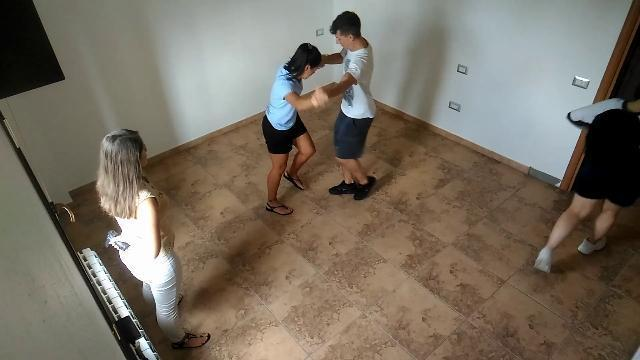non-violence: (94, 125, 210, 360), (532, 90, 640, 279)
violence: (258, 9, 380, 221)
weapon: (105, 231, 129, 252)
